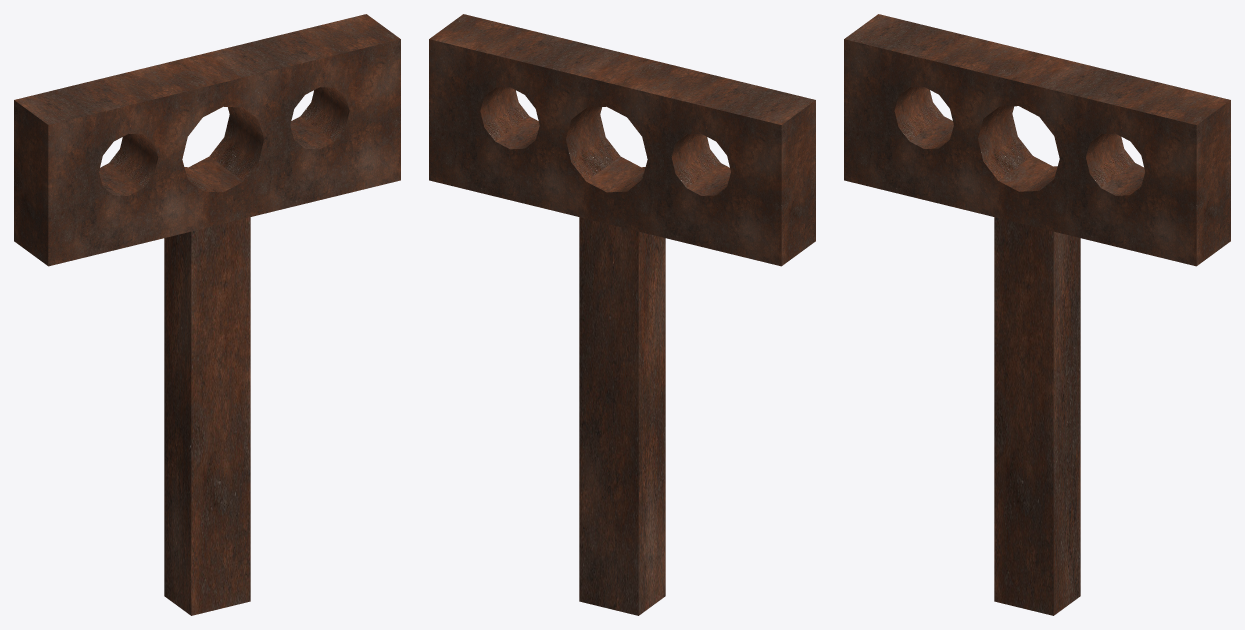
File: toture03.fbx
3 renders of one model, left to right at view 1: azimuth 30°, elevation 25°; view 2: azimuth 150°, elevation 25°; view 3: azimuth 330°, elevation 25°, orthographic.
Parts seen in each view (by area): view 1: Box002, Box001; view 2: Box002, Box001; view 3: Box002, Box001.
Boxes of the visible parts, <box> form: Box002: <box>14,14,400,266</box>; Box001: <box>164,217,250,615</box>; Box002: <box>429,14,815,266</box>; Box001: <box>579,217,665,615</box>; Box002: <box>844,14,1230,266</box>; Box001: <box>994,217,1080,615</box>.
Bounding box in the file's own units: 57.68 × 82.77 × 9.75.
